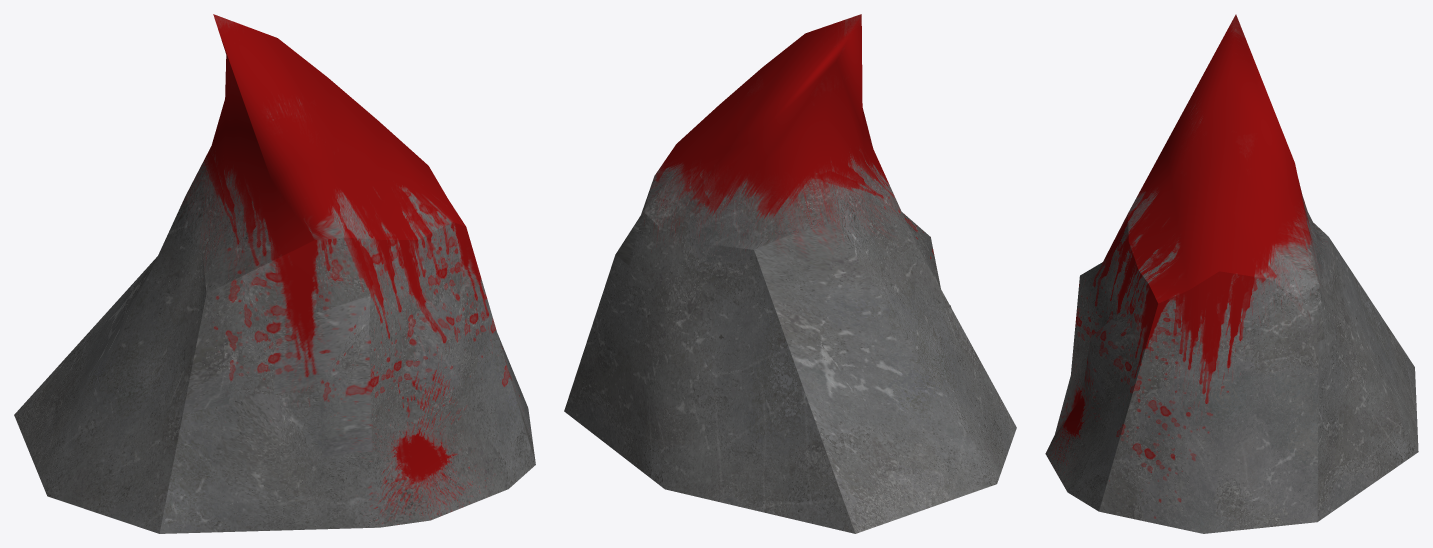
The model's file is ChaosZooClawR.fbx.
The picture shows the model from 3 angles, left to right: view 1: azimuth 30°, elevation 25°; view 2: azimuth 150°, elevation 25°; view 3: azimuth 270°, elevation 25°; orthographic projection. The views are drawn at different scales.
Visible parts, largest first — view 1: pCube4; view 2: pCube4; view 3: pCube4.
Boxes of the visible parts, bbox=[...] form: pCube4: bbox=[14, 14, 535, 533]; pCube4: bbox=[564, 14, 1016, 533]; pCube4: bbox=[1045, 14, 1418, 533].
Size of the model in its own units: 18.52 by 17.76 by 15.24.
